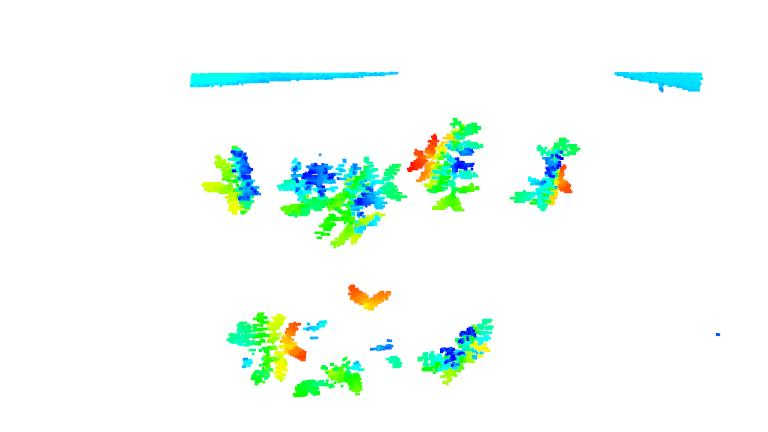chickpea: (276, 157, 404, 241), (404, 112, 488, 213), (292, 336, 404, 400), (221, 310, 314, 384), (195, 145, 272, 222), (510, 133, 585, 212), (419, 314, 498, 382), (346, 279, 392, 312)
